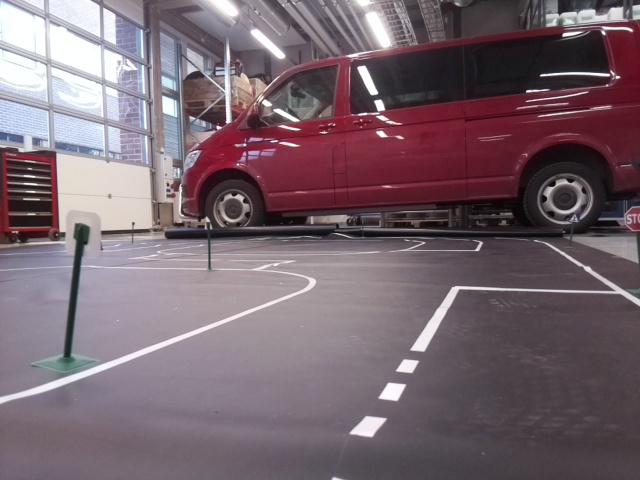Crosswalk: (569, 211, 579, 223)
Stop: (625, 204, 639, 232)
